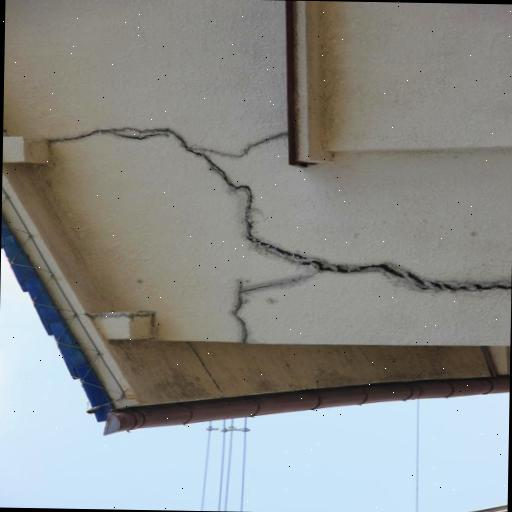spalling: (202, 163, 505, 300), (49, 123, 284, 159), (223, 275, 299, 343)
